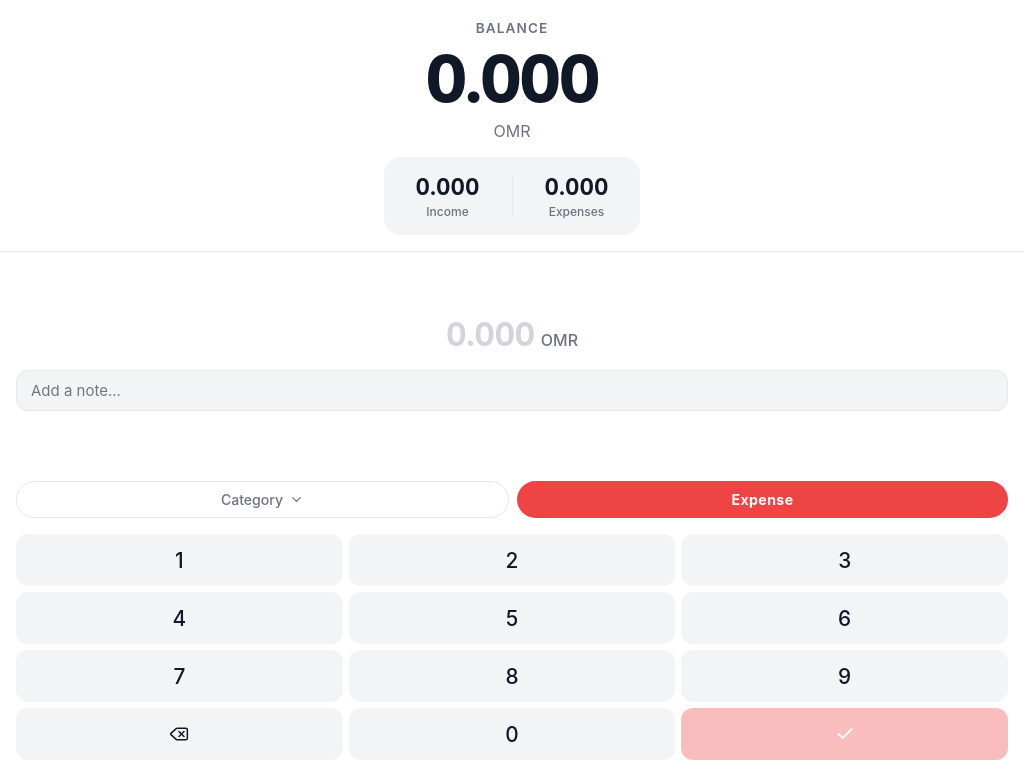
Test case: EntryForm › shows expense categories in BottomSheet by default
Click the button "Category" at (262, 500), box x1=16 y1=481 x2=509 y2=518
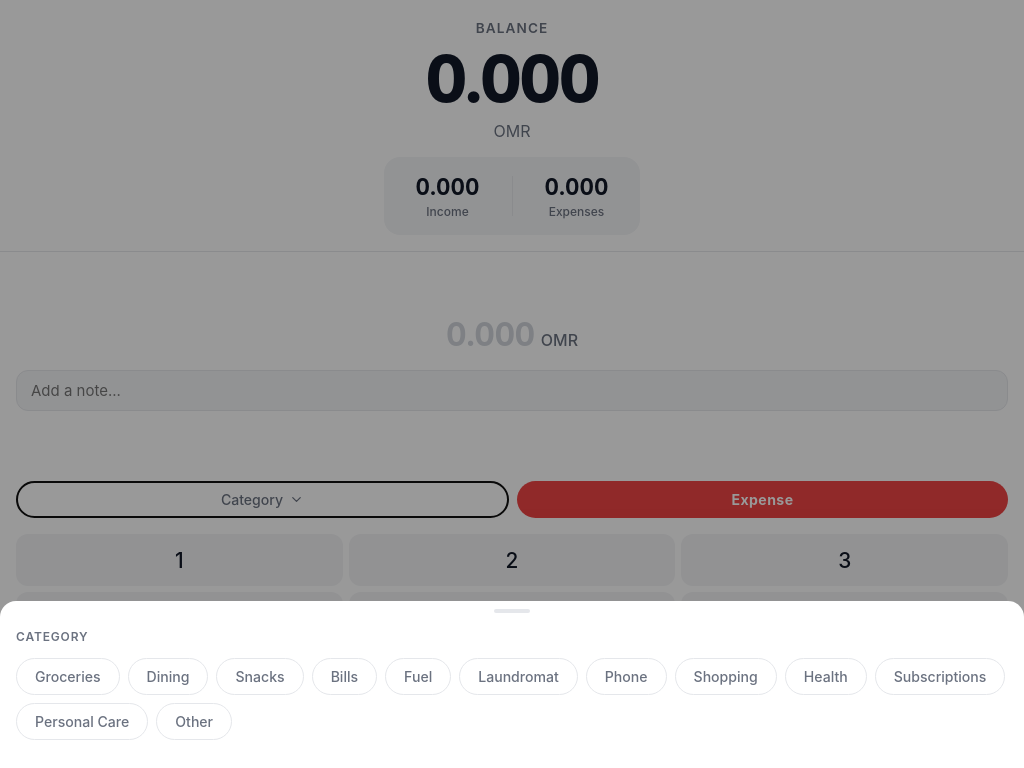
Check: the button "Groceries" is shown, box x1=16 y1=658 x2=120 y2=695
